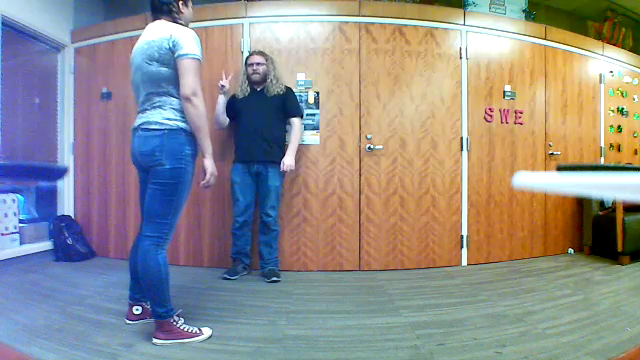peace: (214, 66, 236, 95)
